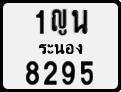letters: (50, 8, 68, 36), (71, 9, 89, 34), (42, 60, 58, 86), (60, 60, 76, 86), (24, 60, 40, 85), (79, 60, 94, 86), (34, 9, 46, 35)
province: (37, 42, 84, 56)
